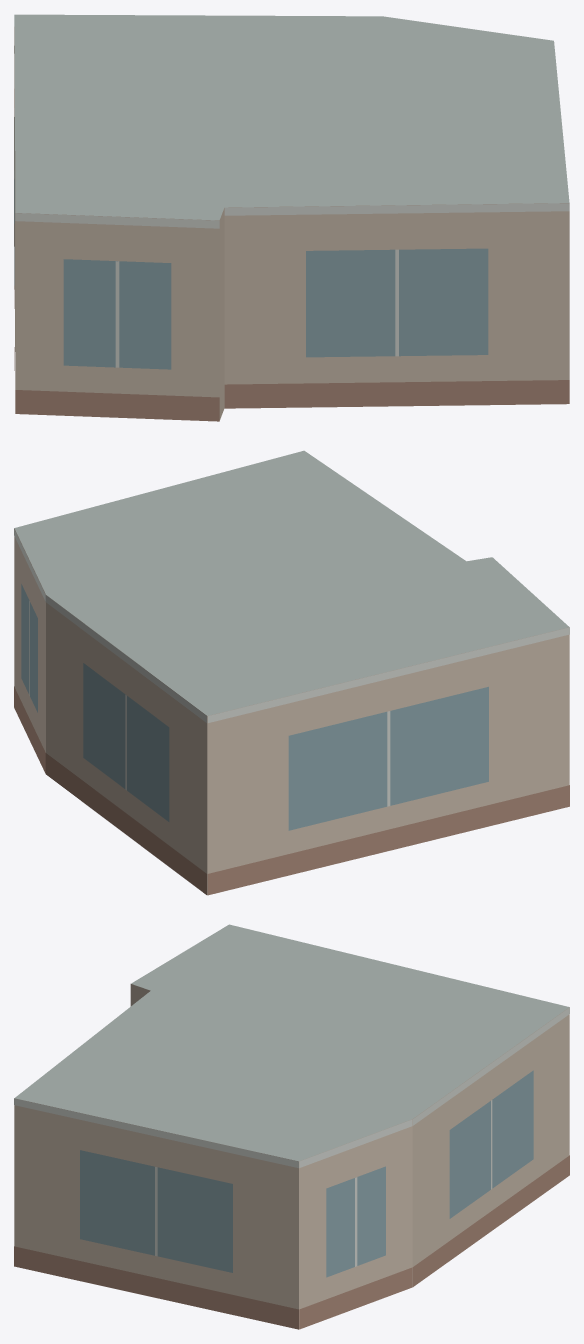
Rendered from survey-upis-32458640.glb.
The picture shows the model from 3 angles, top to bottom: view 1: azimuth 30°, elevation 25°; view 2: azimuth 150°, elevation 25°; view 3: azimuth 270°, elevation 25°; orthographic projection. The views are drawn at different scales.
Visible parts, largest first — view 1: survey-upis-32458640.tmp; view 2: survey-upis-32458640.tmp; view 3: survey-upis-32458640.tmp.
Part boxes in pixels (x1=…): survey-upis-32458640.tmp: x1=14, y1=14, x2=569, y2=421; survey-upis-32458640.tmp: x1=14, y1=450, x2=569, y2=895; survey-upis-32458640.tmp: x1=14, y1=924, x2=569, y2=1329.
Bounding box in the file's own units: 9.23 × 3.05 × 9.14.
